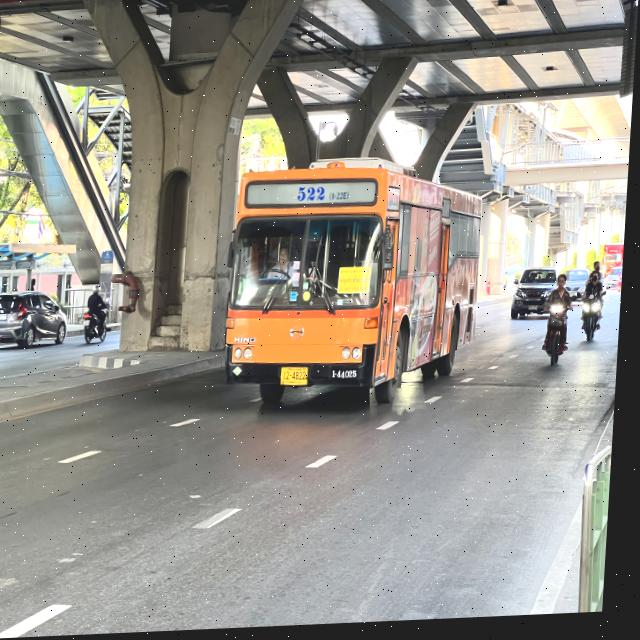BMTA-bus: (225, 159, 488, 419)
Bus-Line-Number: (296, 183, 354, 208)
Destination-Sign-Normal-Expressway: (340, 269, 375, 299)
